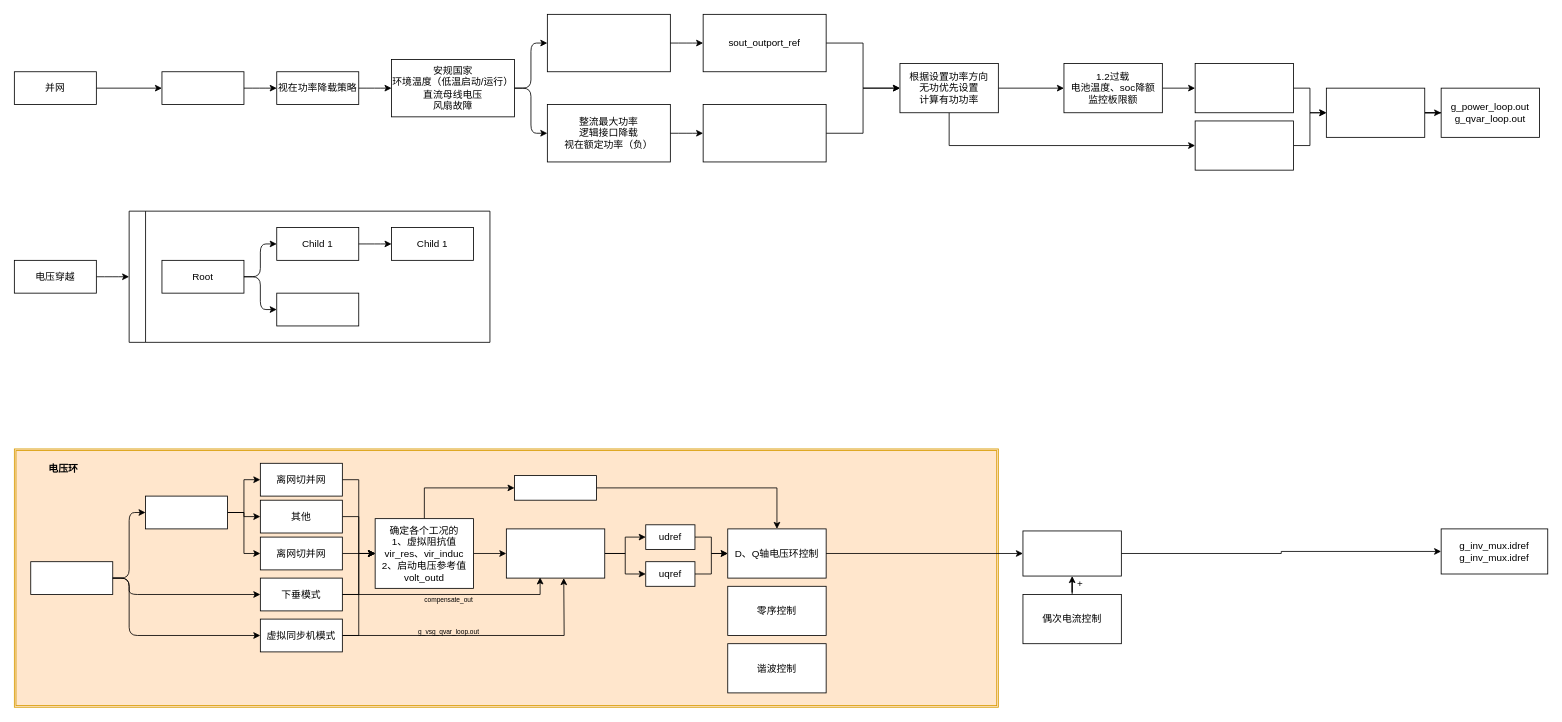
Some shapes in this 1562 by 722 pixel diagram are drawn without their labels. The shapes that lost their labels are listed below. From the top down, each one's box as (x1, y1, x2, y2) in pixels, then its label:
(547, 14, 670, 72): 逆变最大功率 逻辑接口降载 视在额定功率（正）
(161, 71, 244, 105): 额定视在功率
(1194, 63, 1294, 113): g_power_mux.pout
(1326, 87, 1425, 137): 环路计算
(702, 104, 826, 162): sout_inport_ref
(1194, 120, 1294, 170): g_power_mux.qout
(128, 210, 490, 342): Layout Container
(276, 292, 359, 326): Child 2
(514, 475, 597, 500): 下垂计算
(145, 495, 228, 529): VF模式
(506, 528, 605, 578): volt_outd+DCV .........
(1022, 530, 1121, 576): idref iqref
(30, 561, 113, 594): 离网
